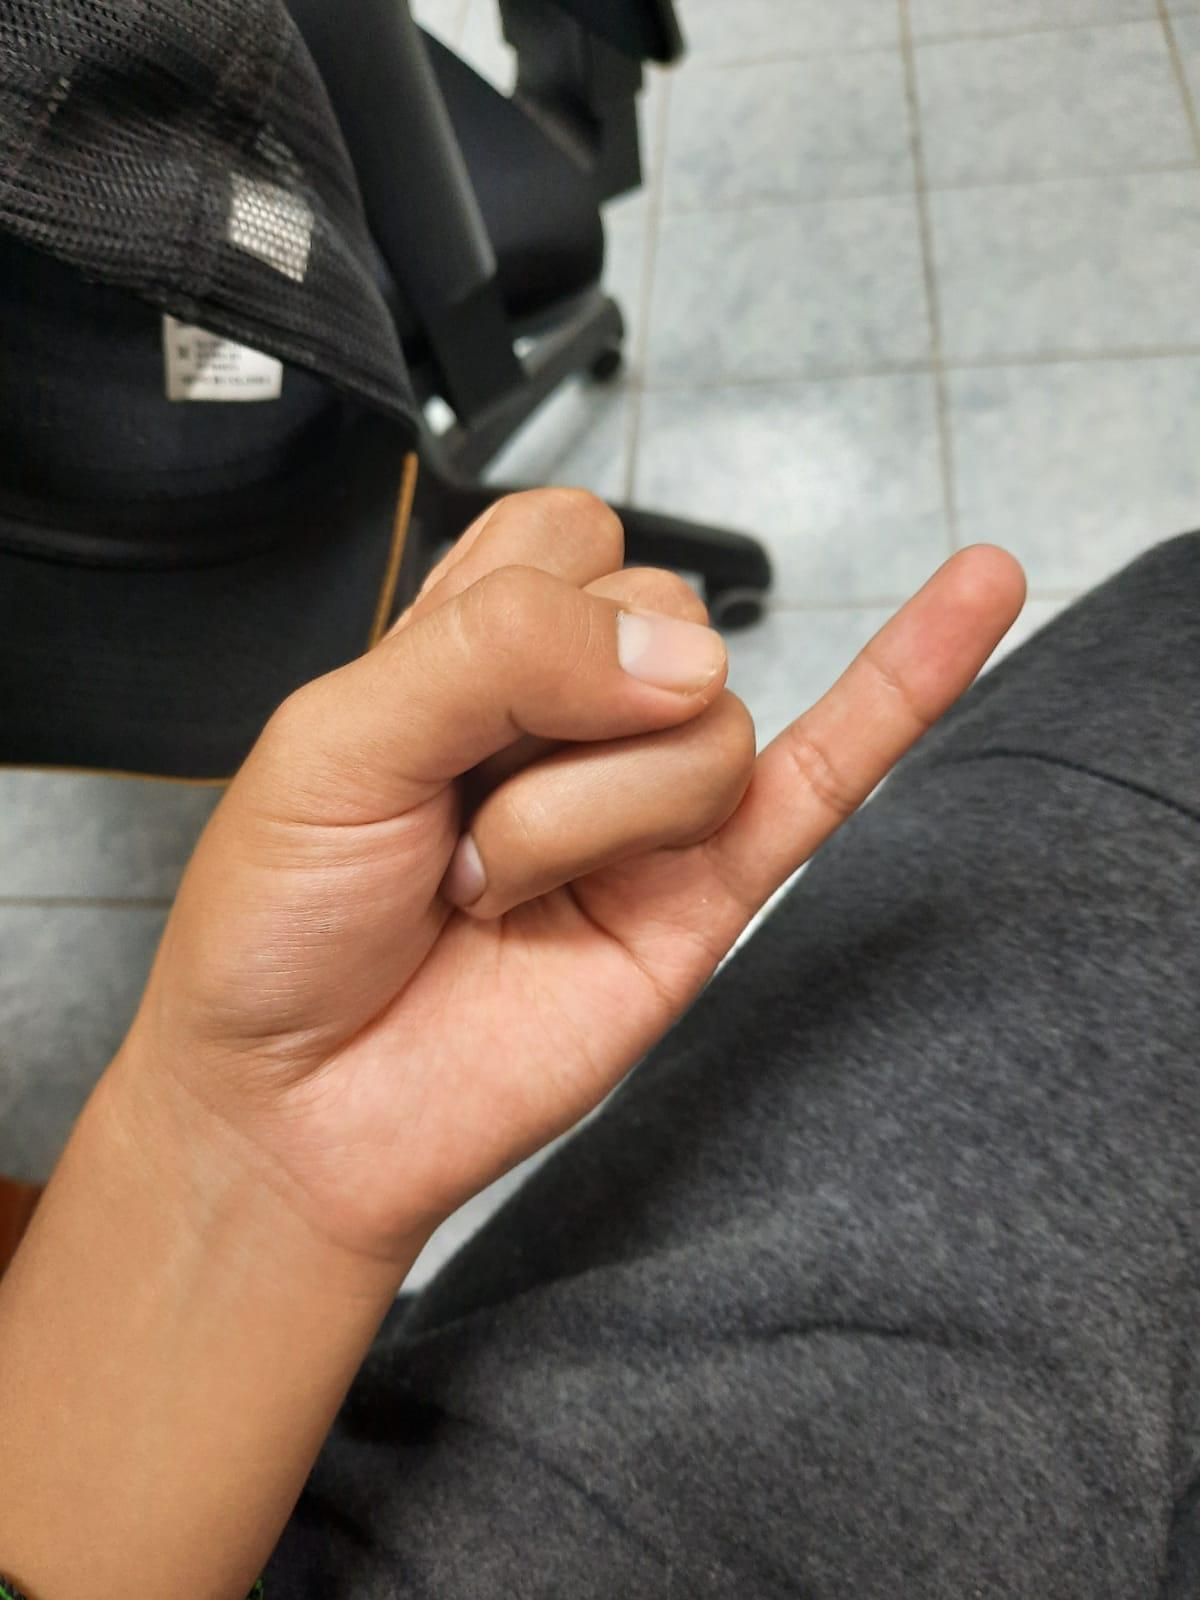Z: (67, 450, 1097, 1367)
